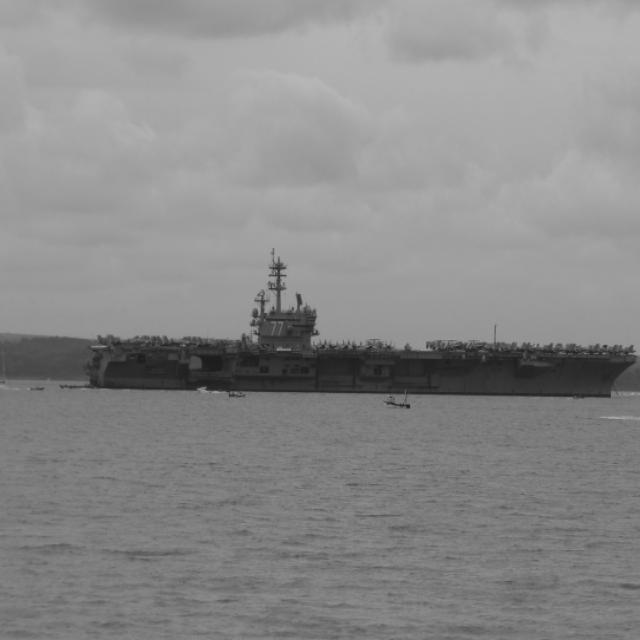Portanaves: (81, 252, 640, 402)
